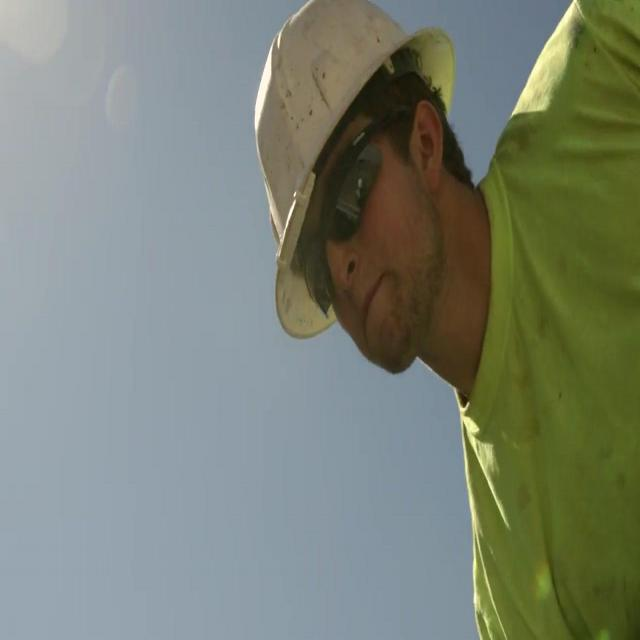Reflective-Jacket: (435, 10, 637, 628)
Safety-Helmet: (251, 1, 459, 331)
